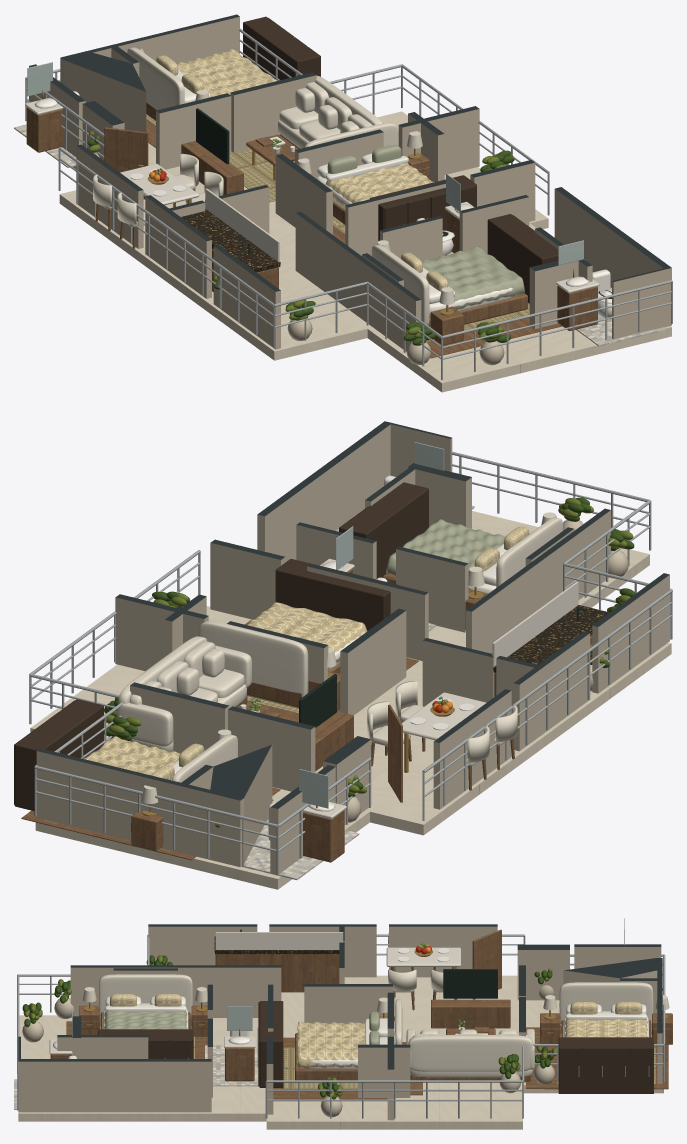
3 views of the same model, one above another, from view 1: azimuth 30°, elevation 25°; view 2: azimuth 150°, elevation 25°; view 3: azimuth 270°, elevation 25° (orthographic). The views are drawn at different scales.
Parts seen in each view (by area): view 1: Source-traced internal and perimeter walls • Wall, Continuous apartment foundation, Soft jacquard duvet with folds.002, Fitted dark wardrobe.002, Fitted dark wardrobe, Soft jacquard duvet with folds, Soft jacquard duvet with folds.001, Deep green kitchen stone, Padded headboard, Oak entrance door, Backsplash, Padded headboard.002 (+21 smaller); view 2: Source-traced internal and perimeter walls • Wall, Continuous apartment foundation, Fitted dark wardrobe.001, Fitted dark wardrobe, Padded headboard.001, Fitted dark wardrobe.002, Soft jacquard duvet with folds.001, Soft jacquard duvet with folds.002, Deep green kitchen stone, Backsplash, Soft jacquard duvet with folds, Vanity (+20 smaller); view 3: Source-traced internal and perimeter walls • Wall, Continuous apartment foundation, Sofa back, Base cabinets, Soft jacquard duvet with folds.001, Walnut media console, Backsplash, Padded headboard, Padded headboard.002, Fitted dark wardrobe.001, Television, Soft jacquard duvet with folds.002 (+43 smaller).
Boxes of the visible parts, <box> form: Source-traced internal and perimeter walls • Wall: <box>29,14,671,351</box>; Continuous apartment foundation: <box>59,111,671,392</box>; Soft jacquard duvet with folds.002: <box>421,246,524,309</box>; Fitted dark wardrobe.002: <box>487,214,558,303</box>; Fitted dark wardrobe: <box>243,16,320,80</box>; Soft jacquard duvet with folds: <box>177,49,277,96</box>; Soft jacquard duvet with folds.001: <box>325,163,434,206</box>; Deep green kitchen stone: <box>181,209,280,270</box>; Padded headboard: <box>127,47,184,110</box>; Oak entrance door: <box>104,127,148,199</box>; Backsplash: <box>205,188,279,261</box>; Padded headboard.002: <box>371,244,429,325</box>; Source-traced internal and perimeter walls • Wall: <box>36,421,669,875</box>; Continuous apartment foundation: <box>30,511,671,889</box>; Fitted dark wardrobe.001: <box>275,559,398,631</box>; Fitted dark wardrobe: <box>14,699,103,810</box>; Padded headboard.001: <box>199,621,308,697</box>; Fitted dark wardrobe.002: <box>340,482,428,578</box>; Soft jacquard duvet with folds.001: <box>247,602,367,668</box>; Soft jacquard duvet with folds.002: <box>386,519,505,589</box>; Deep green kitchen stone: <box>493,605,609,670</box>; Backsplash: <box>492,581,578,666</box>; Soft jacquard duvet with folds: <box>83,736,180,775</box>; Vanity: <box>303,810,344,862</box>; Source-traced internal and perimeter walls • Wall: <box>18,924,662,1120</box>; Continuous apartment foundation: <box>18,975,663,1129</box>; Sofa back: <box>408,1035,533,1071</box>; Base cabinets: <box>215,954,339,992</box>; Soft jacquard duvet with folds.001: <box>297,1021,364,1067</box>; Walnut media console: <box>431,999,510,1028</box>; Backsplash: <box>215,932,343,949</box>; Padded headboard: <box>559,982,653,1024</box>; Padded headboard.002: <box>99,974,192,1016</box>; Fitted dark wardrobe.001: <box>259,1001,283,1087</box>; Television: <box>443,969,497,998</box>; Soft jacquard duvet with folds.002: <box>102,1011,189,1029</box>.
Bounding box in the file's own units: 7.18 × 1.7 × 13.26.
Materials: 26 (6 with a texture image).
